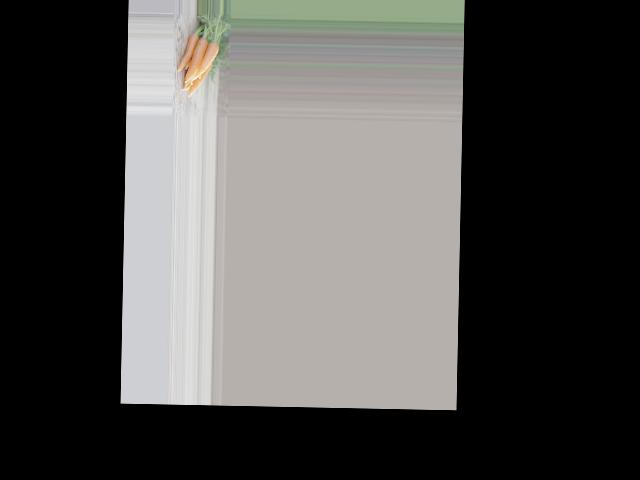carrot: (180, 28, 197, 74)
